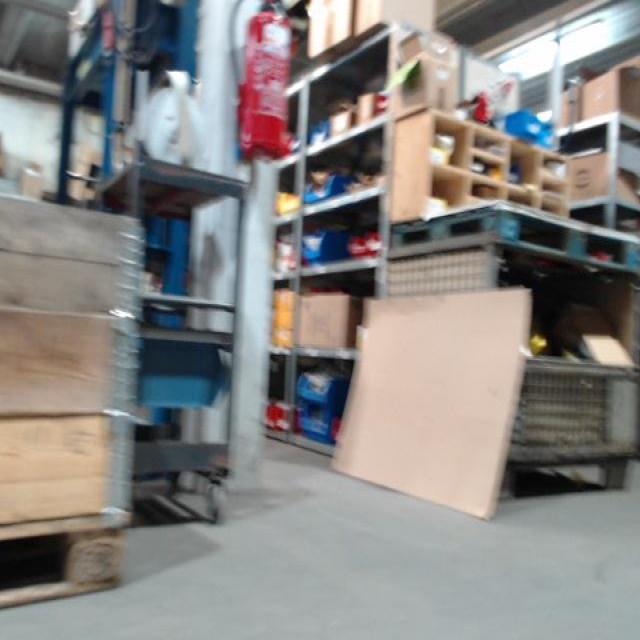pallet: (387, 211, 635, 267), (0, 515, 133, 611)
stillage: (378, 238, 638, 506)
